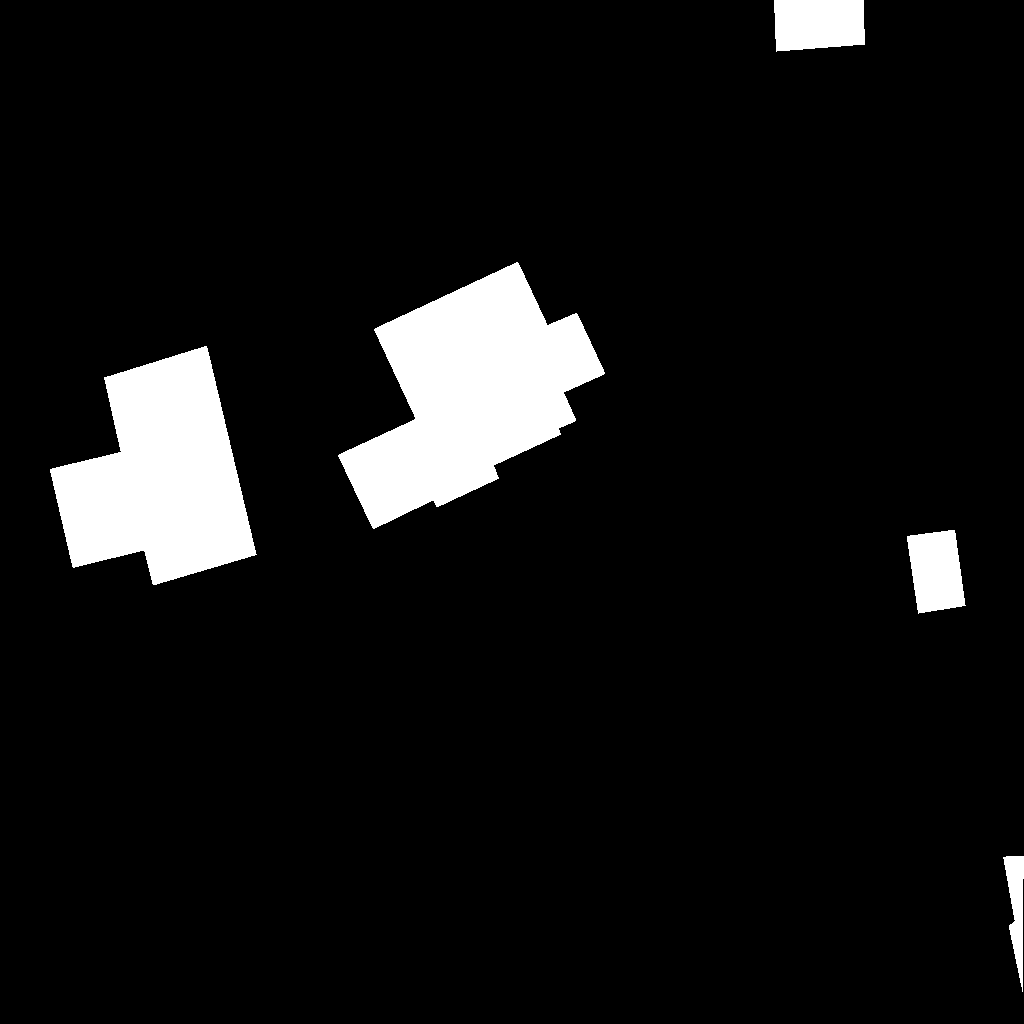building: (338, 262, 606, 530), (50, 346, 257, 586), (907, 530, 966, 614), (774, 0, 866, 52), (1003, 856, 1024, 995)
